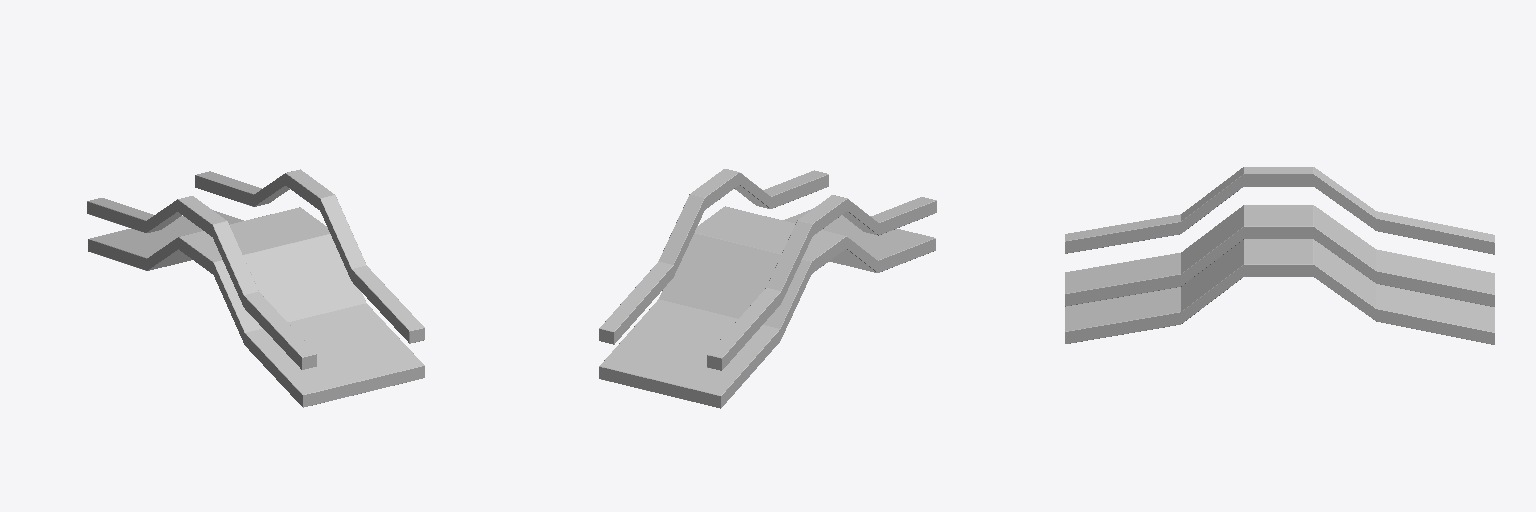
The model's file is most.obj.
3 views of the same model, side by side, from view 1: azimuth 30°, elevation 25°; view 2: azimuth 150°, elevation 25°; view 3: azimuth 270°, elevation 25° (orthographic).
Visible parts, largest first — view 1: Cube.002_Cube.010; view 2: Cube.002_Cube.010; view 3: Cube.002_Cube.010.
Boxes of the visible parts, box(x1,y1,x2,y2) form: Cube.002_Cube.010: box(87, 169, 424, 407); Cube.002_Cube.010: box(599, 169, 936, 408); Cube.002_Cube.010: box(1065, 167, 1494, 344).
Size of the model in its own units: 4.07 by 3.75 by 12.3.